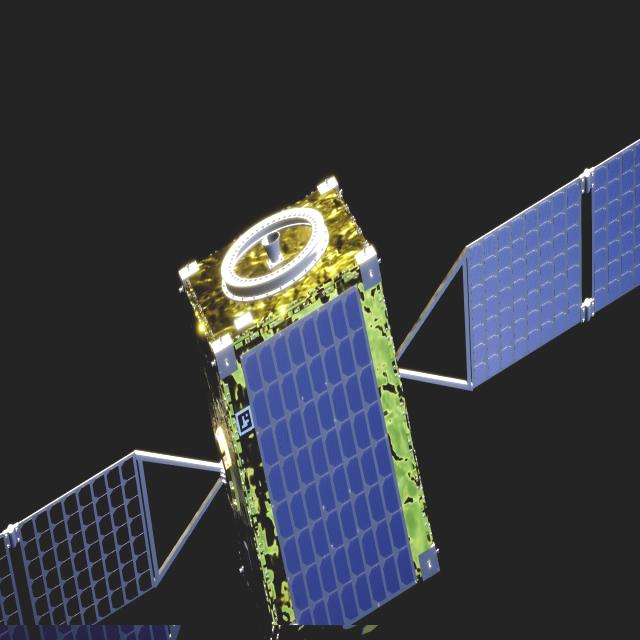medium_debris: (0, 140, 640, 640)
